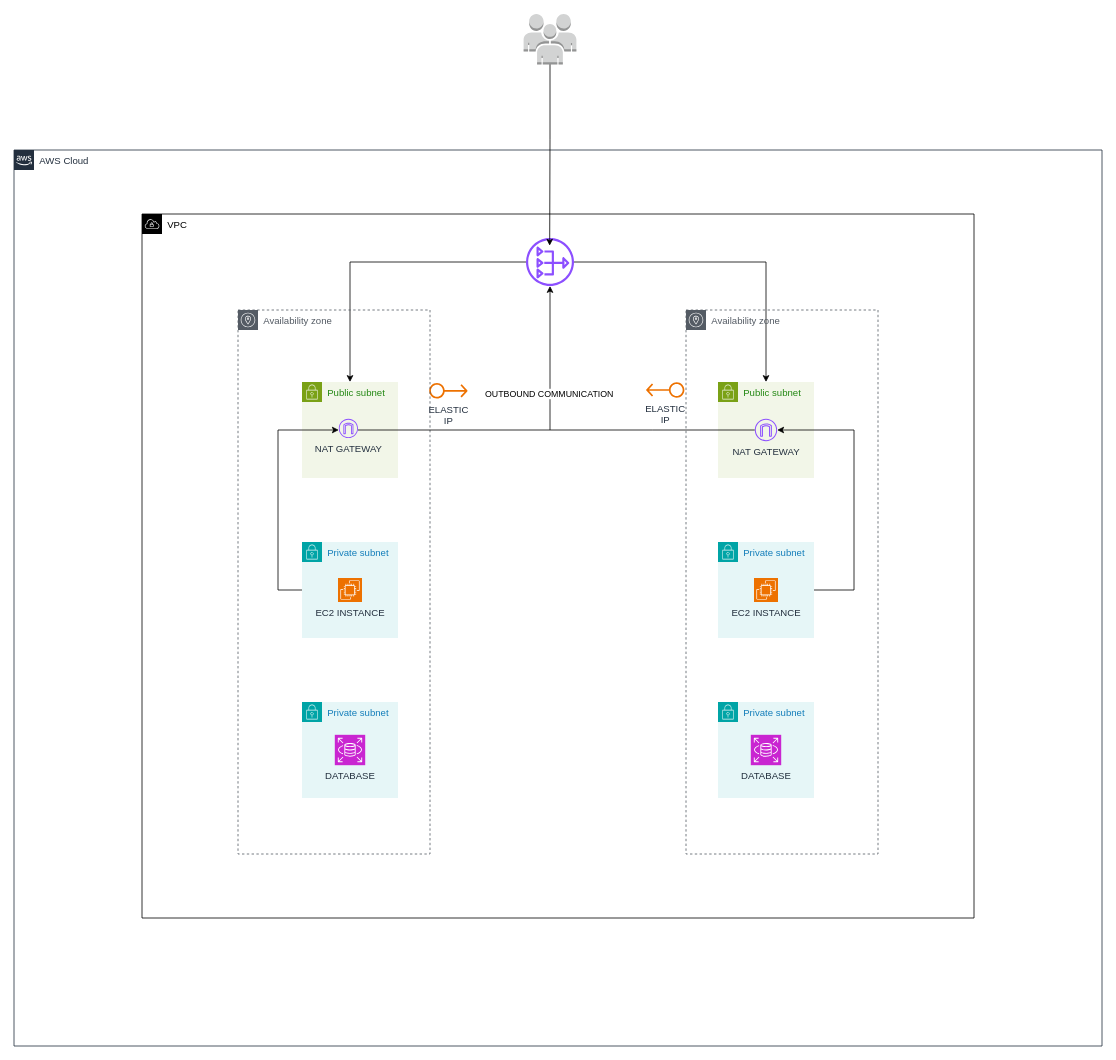
The diagram is 1116 pixels wide and 1060 high, and some of its shapes have lost their labels. The centre of each missing label's shape, as x and y in pixels:
INTERNET GATEWAY: (x=550, y=262)
USERS: (x=549, y=38)
